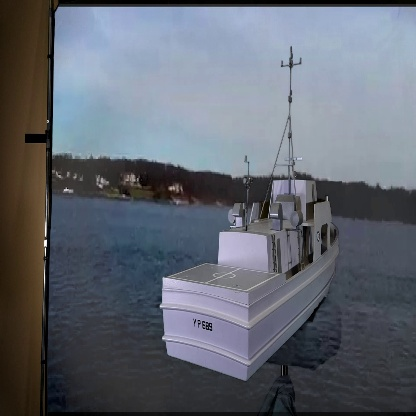YP689: (161, 46, 340, 376)
